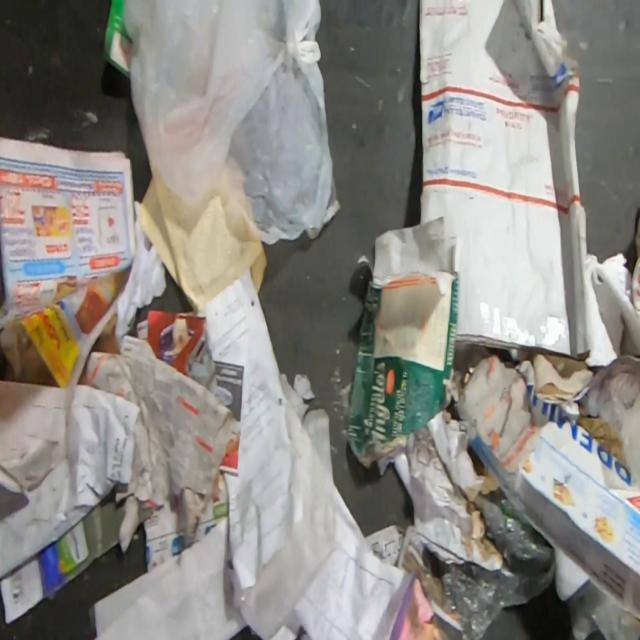cardboard: (418, 0, 596, 359), (466, 384, 640, 624), (346, 212, 463, 471)
soft_plastic: (119, 0, 342, 244), (437, 486, 554, 640), (608, 371, 640, 488)
